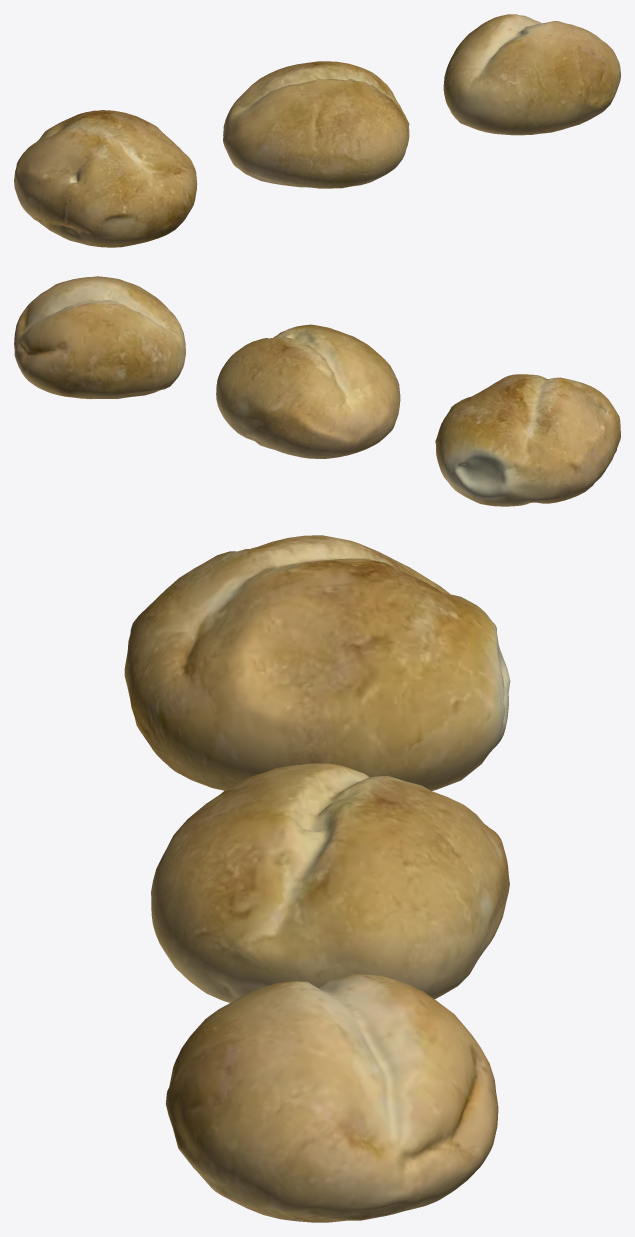
Rendered from hamburger_buns.glb.
3 renders of one model, top to bottom at view 1: azimuth 30°, elevation 25°; view 2: azimuth 150°, elevation 25°; view 3: azimuth 270°, elevation 25°, orthographic. The views are drawn at different scales.
Parts seen in each view (by area): view 1: hamburger_buns_01; view 2: hamburger_buns_01; view 3: hamburger_buns_01.
Part boxes in pixels (x1,y1,x2,y2): hamburger_buns_01: (14, 14, 620, 247); hamburger_buns_01: (14, 276, 620, 506); hamburger_buns_01: (124, 535, 510, 1222).
Bounding box in the file's own units: 0.3972 × 0.0634 × 0.1138.
Materials: 1 (1 with a texture image).
